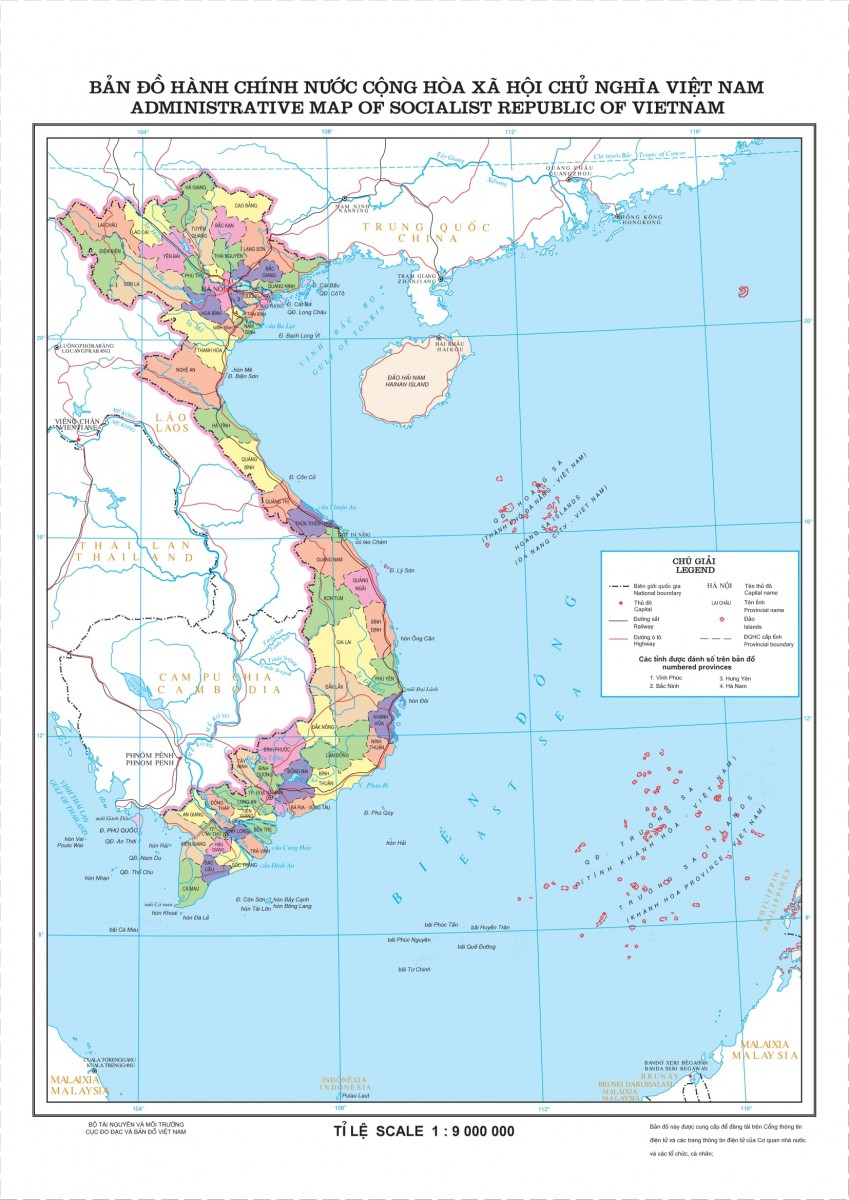Island: (517, 745, 769, 971), (473, 442, 606, 567)
